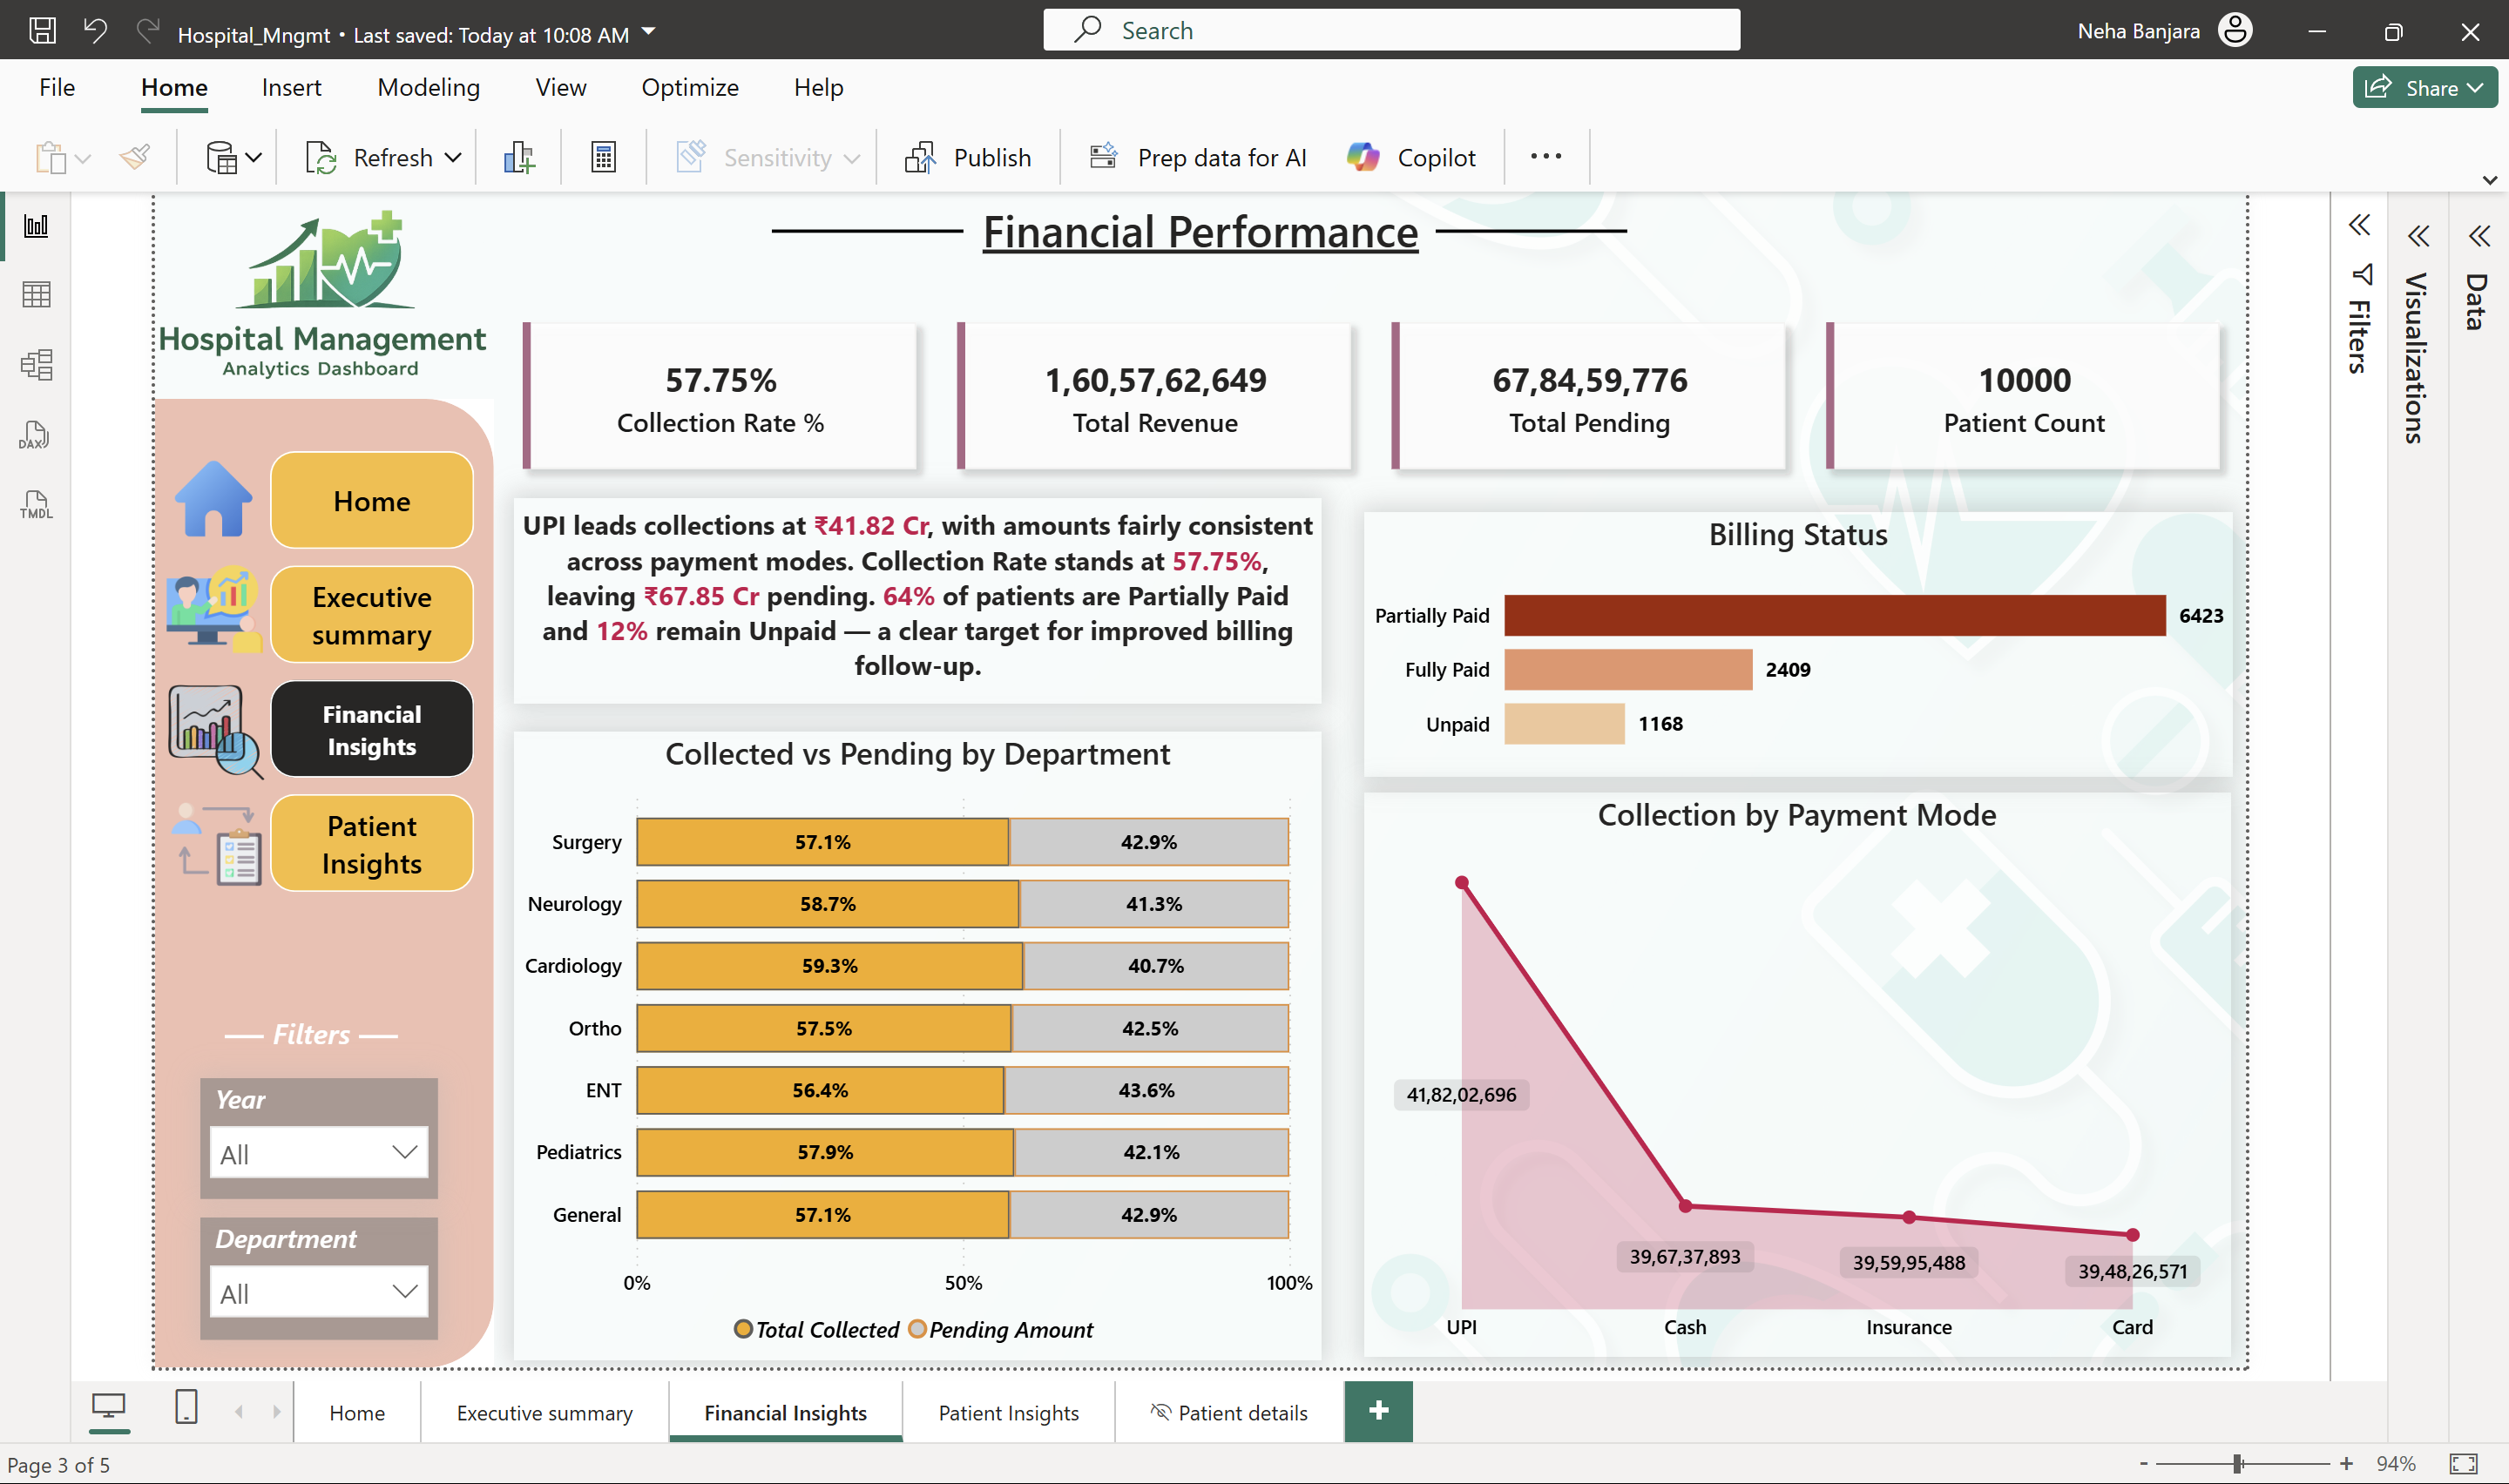

The page's visual inventory and layout, read from the dashboard file:
{"tool":"powerbi","page":{"name":"Financial Insights","canvas":[1280,720],"ordinal":2},"visuals":[{"type":"shape","box":[0,126.7,207.4,593.3],"z":0,"group":"g3"},{"type":"clusteredBarChart","title":"Billing Status","fields":{"Category":["hospital_management.PaymentStatus"],"Y":["Measures_table.Patient Count"]},"box":[740.7,196.3,531.6,161.9],"z":0},{"type":"hundredPercentStackedBarChart","title":"Collected vs Pending by Department","fields":{"Category":["hospital_management.Department"],"Y":["Measures_table.Total Collected","Measures_table.Total Pending"]},"box":[219.3,330.2,494.7,385],"z":1000},{"type":"slicer","fields":{"Values":["hospital_management.AgeGroup"]},"box":[27.4,627.8,145.4,74.9],"z":1000,"group":"g3"},{"type":"textbox","box":[219.3,187.4,494.7,126.2],"z":2000},{"type":"textbox","box":[315.5,0,648.9,76.5],"z":3000},{"type":"group","id":"g1","title":"Group 1","box":[19.8,498.2,151.3,38.7],"z":3000,"group":"g3"},{"type":"cardVisual","fields":{"Data":["Measures_table.Collection Rate %","Measures_table.Total Revenue","Measures_table.Total Pending","Measures_table.Patient Count"]},"box":[207.8,62.5,1073.5,124.9],"z":4000},{"type":"group","id":"g2","title":"Group 2","box":[1.4,158.4,194.4,270.7],"z":4000,"group":"g3"},{"type":"stackedAreaChart","title":"Collection by Payment Mode","fields":{"Category":["hospital_management.PaymentMode"],"Y":["Measures_table.Total Revenue"]},"box":[740.7,368.4,530.4,345.5],"z":5000},{"type":"shape","box":[784.1,0,117.3,48.4],"z":6000},{"type":"shape","box":[377.4,0,117.3,48.4],"z":7000},{"type":"image","box":[0,0,207.4,122.4],"z":8000},{"type":"shape","box":[19.8,501.6,151.3,28.4],"z":8000,"group":"g1"},{"type":"slicer","fields":{"Values":["DimDate.Year"]},"box":[28,543.1,145.3,73.9],"z":8001,"group":"g3"},{"type":"group","id":"g3","title":"Group 3","box":[0,126.7,207.4,593.3],"z":9000},{"type":"pageNavigator","box":[70.5,158.4,125.3,270.7],"z":13000,"group":"g2"},{"type":"image","box":[1.4,226.1,70.6,59],"z":14000,"group":"g2"},{"type":"image","box":[2.8,164.2,67.7,47.5],"z":15000,"group":"g2"},{"type":"image","box":[2.8,370.1,70.6,59],"z":16000,"group":"g2"},{"type":"image","box":[2.8,301,70.6,59],"z":17000,"group":"g2"},{"type":"shape","box":[124.4,498.2,23.9,38.7],"z":19000,"group":"g1"},{"type":"shape","box":[42.5,498.2,23.9,38.7],"z":20000,"group":"g1"}]}

Visuals, with their boxes on the page's 1280x720 design canvas (x1, y1, x2, y2). These are canvas units, not pixel positions in the 2509x1484 screenshot, which may show the page scaled, cropped or inside an application window:
shape: bbox=(0, 127, 207, 720)
"Billing Status" clusteredBarChart: bbox=(741, 196, 1272, 358)
"Collected vs Pending by Department" hundredPercentStackedBarChart: bbox=(219, 330, 714, 715)
slicer - hospital_management.AgeGroup: bbox=(27, 628, 173, 703)
textbox: bbox=(219, 187, 714, 314)
textbox: bbox=(316, 0, 964, 76)
"Group 1" group: bbox=(20, 498, 171, 537)
cardVisual - Measures_table.Collection Rate % x Measures_table.Total Revenue: bbox=(208, 62, 1281, 187)
"Group 2" group: bbox=(1, 158, 196, 429)
"Collection by Payment Mode" stackedAreaChart: bbox=(741, 368, 1271, 714)
shape: bbox=(784, 0, 901, 48)
shape: bbox=(377, 0, 495, 48)
image: bbox=(0, 0, 207, 122)
shape: bbox=(20, 502, 171, 530)
slicer - DimDate.Year: bbox=(28, 543, 173, 617)
"Group 3" group: bbox=(0, 127, 207, 720)
pageNavigator: bbox=(70, 158, 196, 429)
image: bbox=(1, 226, 72, 285)
image: bbox=(3, 164, 70, 212)
image: bbox=(3, 370, 73, 429)
image: bbox=(3, 301, 73, 360)
shape: bbox=(124, 498, 148, 537)
shape: bbox=(42, 498, 66, 537)
